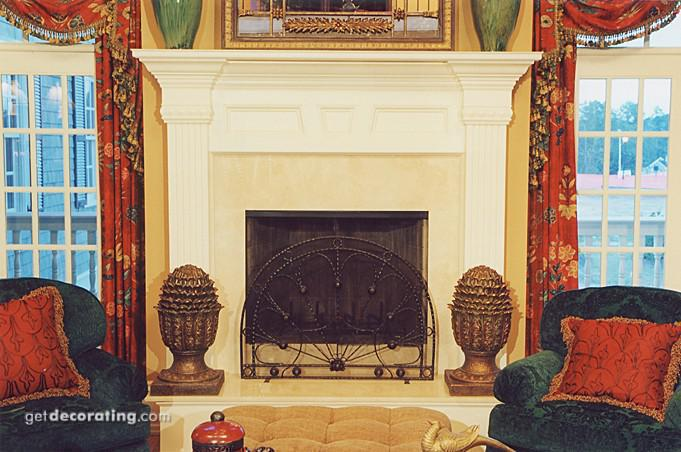Otro Obstaculo: (444, 254, 521, 399), (157, 268, 231, 400)
Ventana: (567, 54, 672, 285), (3, 49, 105, 284)
